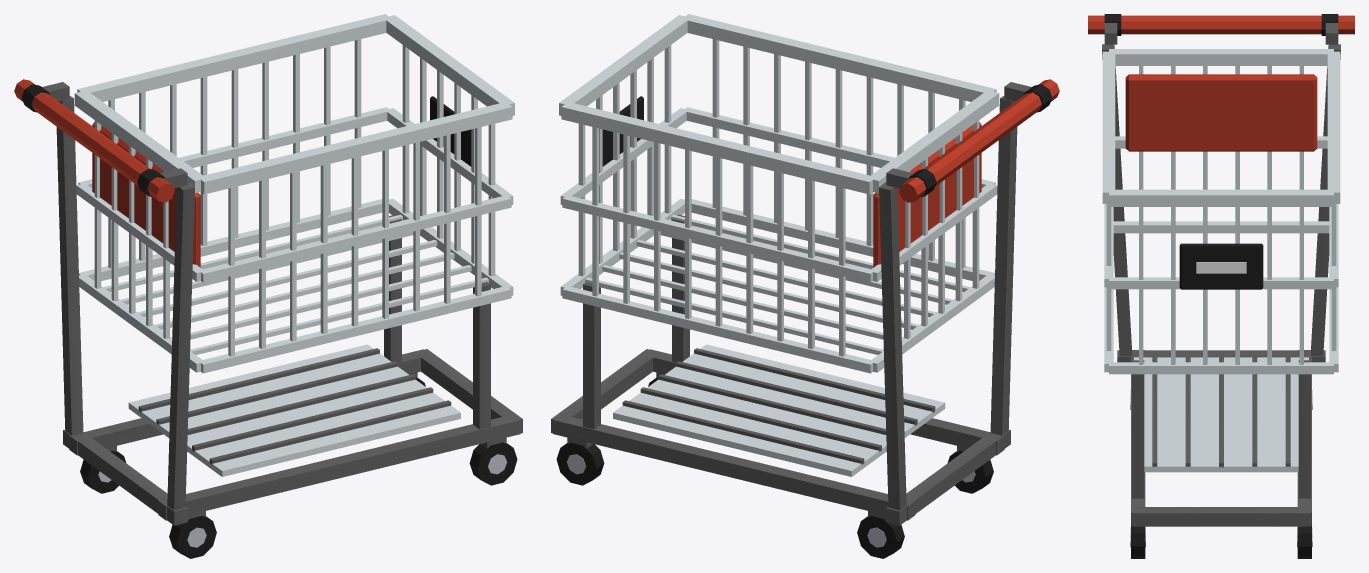
The model's file is SM_Build_SM_Store_Cart_01.fbx.
The picture shows the model from 3 angles, left to right: view 1: azimuth 30°, elevation 25°; view 2: azimuth 150°, elevation 25°; view 3: azimuth 270°, elevation 25°; orthographic projection. The views are drawn at different scales.
Parts seen in each view (by area): view 1: SM_Store_Cart_01; view 2: SM_Store_Cart_01; view 3: SM_Store_Cart_01.
Part boxes in pixels (x1,y1,x2,y2): SM_Store_Cart_01: [14, 14, 522, 558]; SM_Store_Cart_01: [551, 14, 1059, 558]; SM_Store_Cart_01: [1088, 14, 1354, 558].
Bounding box in the file's own units: 1.02 × 1.01 × 0.64.
